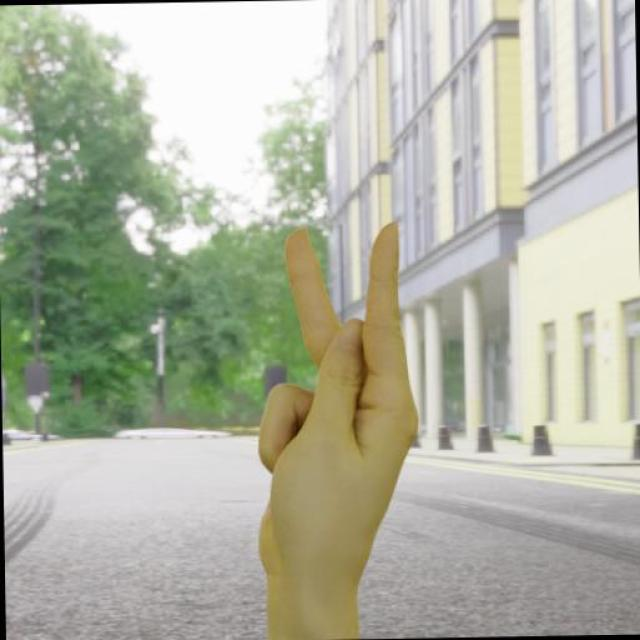K: (248, 216, 423, 592)
